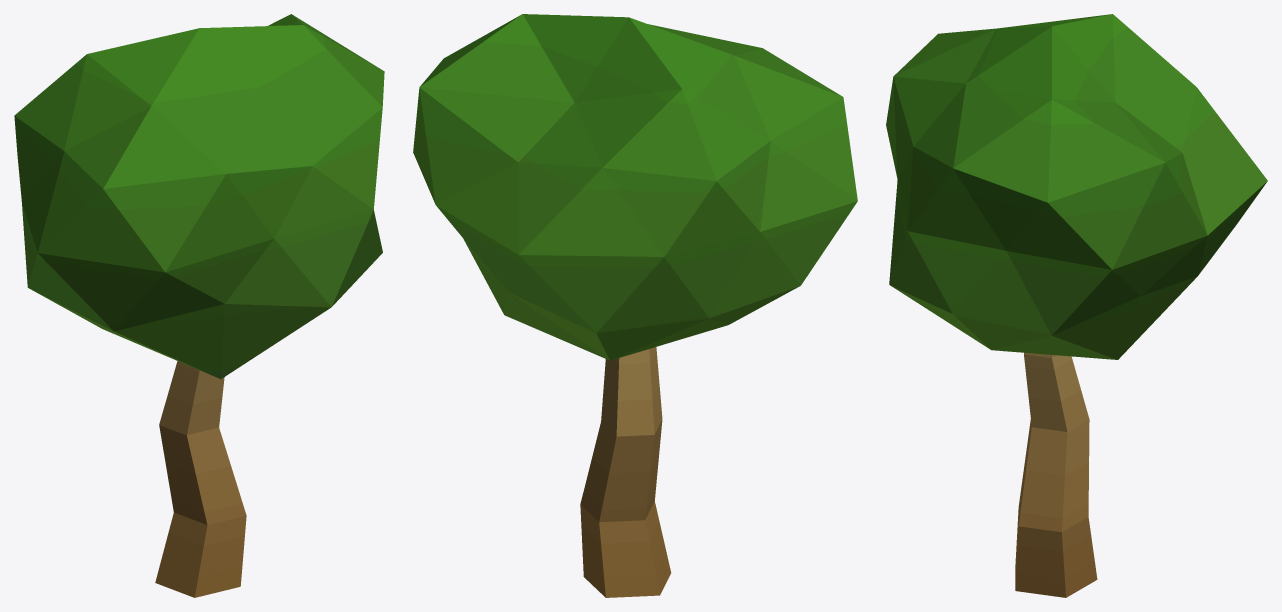
Rendered from Simple Tree.glb.
The picture shows the model from 3 angles, left to right: view 1: azimuth 30°, elevation 25°; view 2: azimuth 150°, elevation 25°; view 3: azimuth 270°, elevation 25°; orthographic projection. The views are drawn at different scales.
Visible parts, largest first — view 1: LeafTree_1; view 2: LeafTree_1; view 3: LeafTree_1.
Boxes of the visible parts, x1,y1,x2,y2 form: LeafTree_1: (14, 14, 384, 597); LeafTree_1: (413, 14, 857, 597); LeafTree_1: (886, 14, 1267, 597).
Bounding box in the file's own units: 1.31 × 1.84 × 1.15.
Materials: 1 (1 with a texture image).
